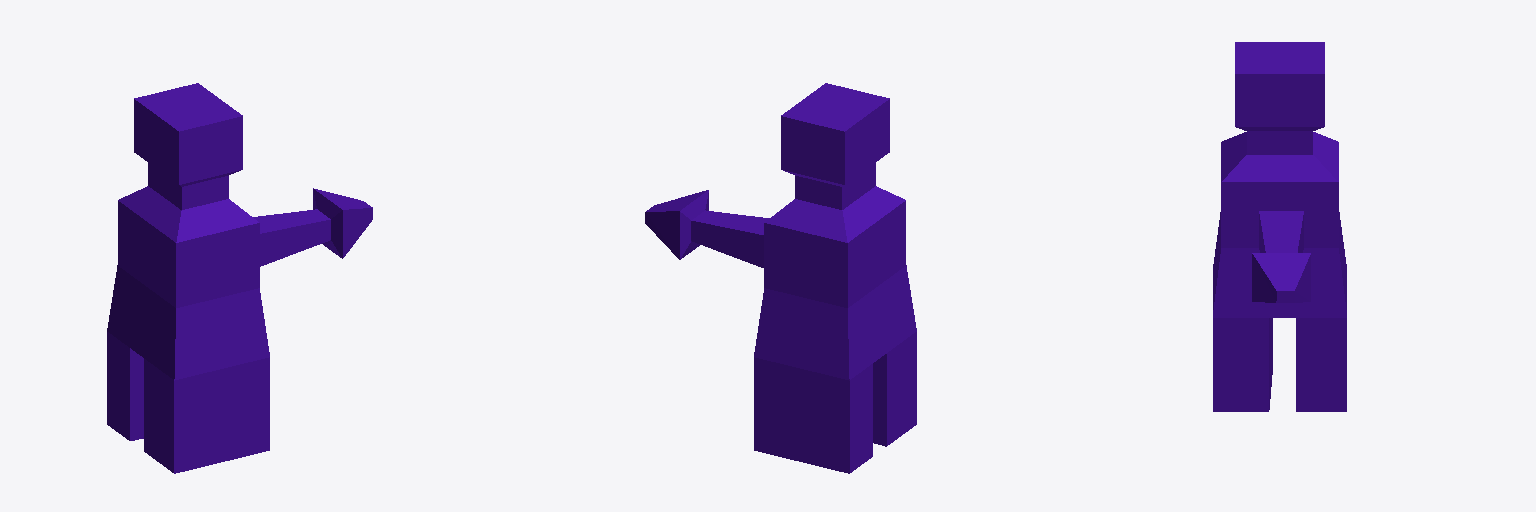
File: arrowman.obj
The picture shows the model from 3 angles: view 1: azimuth 30°, elevation 25°; view 2: azimuth 150°, elevation 25°; view 3: azimuth 270°, elevation 25°; orthographic projection.
Visible parts, largest first — view 1: Box001; view 2: Box001; view 3: Box001.
Part boxes in pixels (bbox=[...]): Box001: bbox=[107, 83, 372, 473]; Box001: bbox=[645, 83, 916, 473]; Box001: bbox=[1213, 42, 1346, 411].
Size of the model in its own units: 53.38 by 73.06 by 27.06.